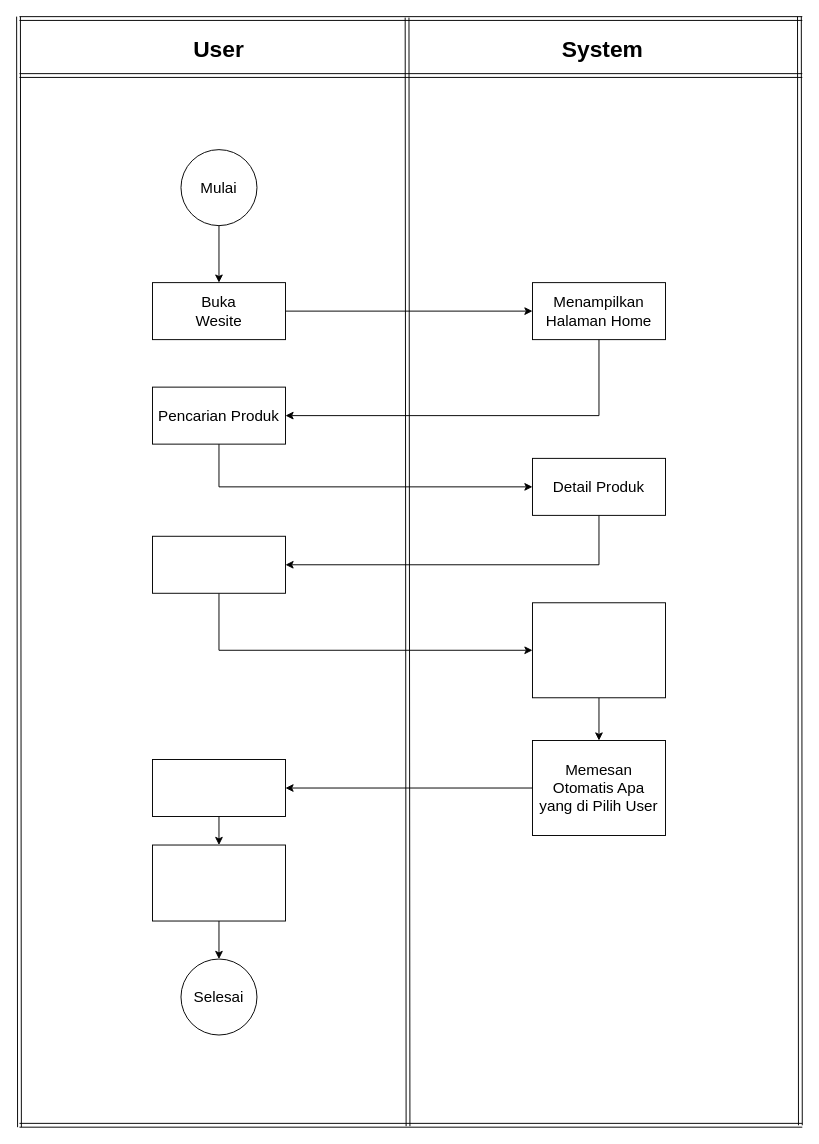
The diagram is 819 pixels wide and 1144 high, and some of its shapes have lost their labels. The shapes that lost their labels are listed below. From the top down, each one's centre as x and y in pixels, then its label:
At (x=218, y=564): "Pesan Produk".
At (x=598, y=650): "Menampilkan Halaman yang Mengarah ke WhatApp Penjual".
At (x=218, y=788): "Mengisi Nama & Alamat Pemesan".
At (x=218, y=882): "Mengisi Nama & Alamat Pemesan Lalu Kirim".
